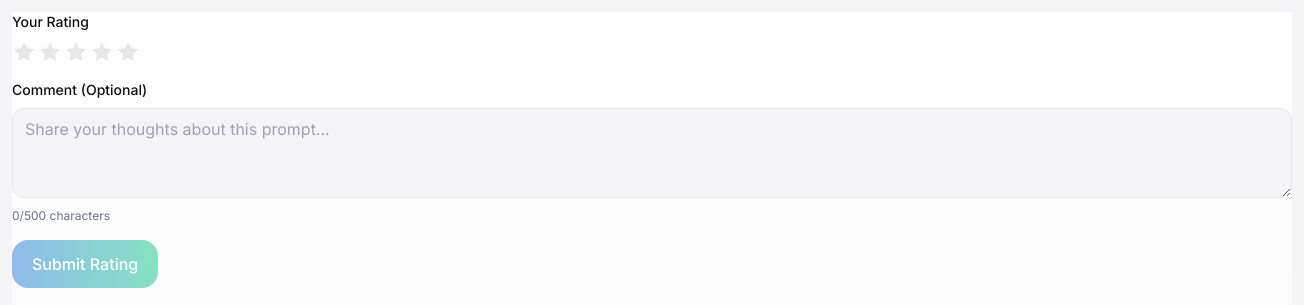
Test: RatingSubmission Component › shows character count for comment
Type "Hello" into the text box labelled "Comment (Optional)".
click(652, 153); type("Hello")  # box [12, 108, 1292, 198]
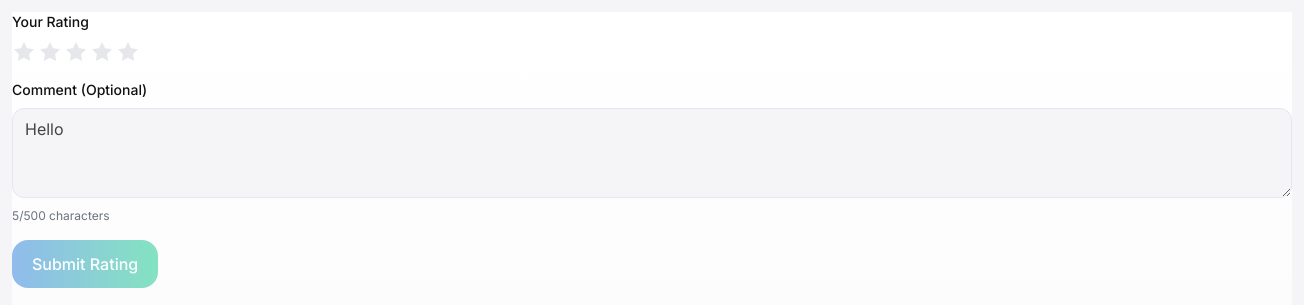
Expected: the text "5/500 characters" is shown, [12, 208, 110, 223]
